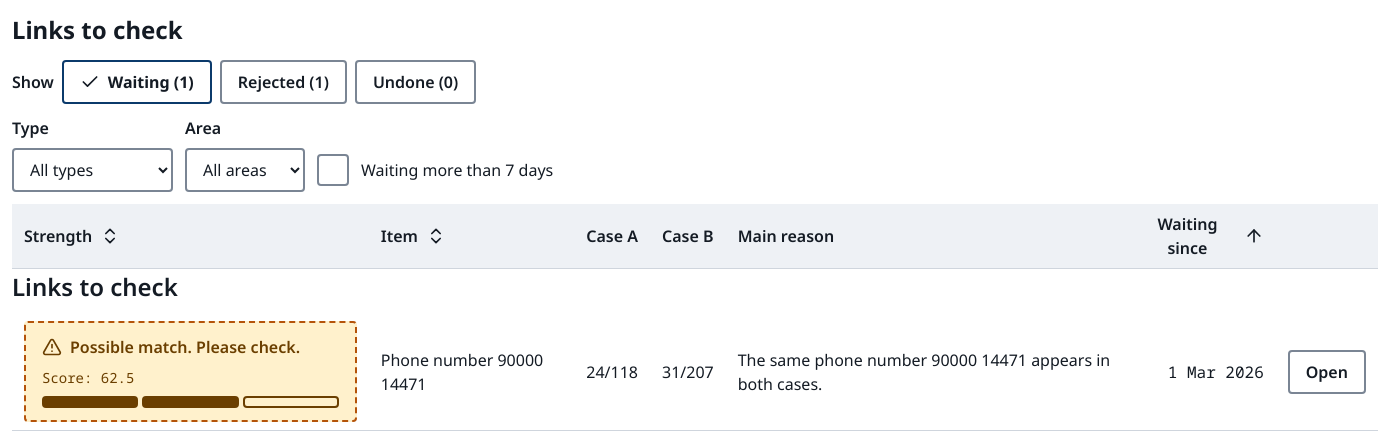
Test: the status choice is kept in the page address so Back returns to it
Later steps or results of the test are not shown.
Click the button "Rejected (1)".
click(283, 82)  # box [220, 60, 347, 104]
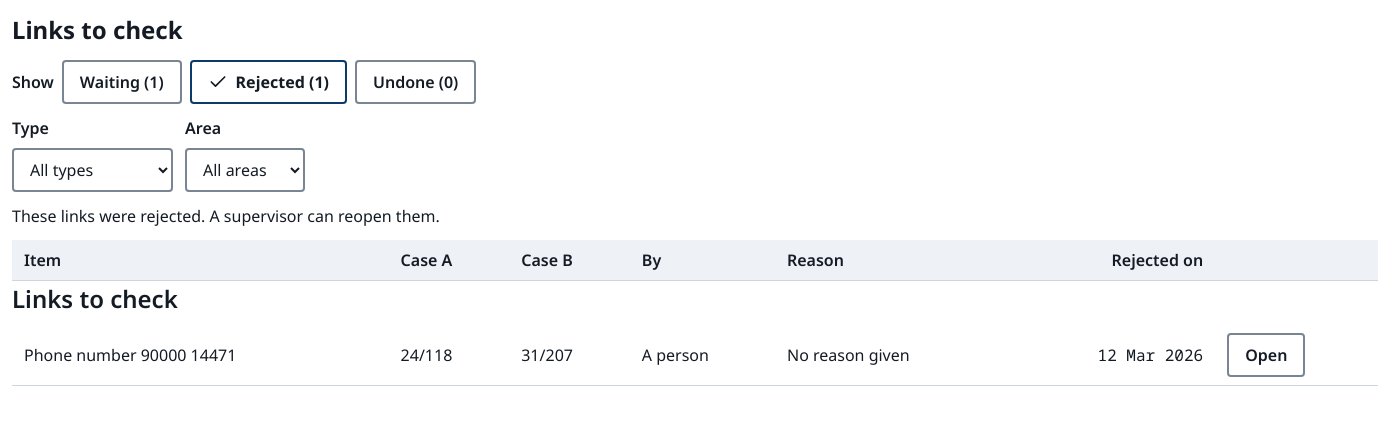
Check: the text "These links were rejected. A supervisor can reopen them." is shown, box [12, 205, 440, 227]
